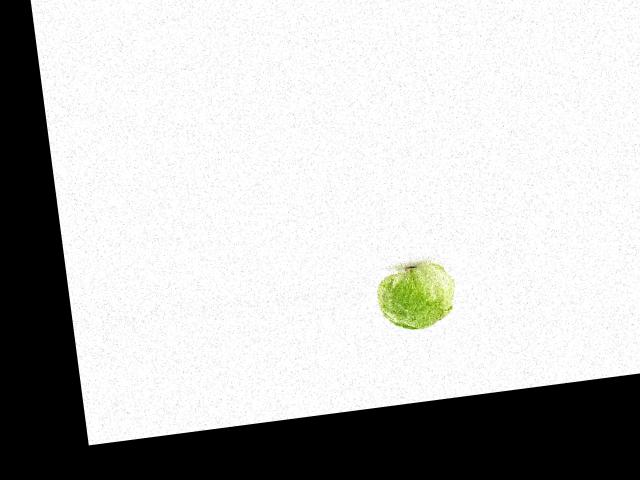lettuce: (365, 263, 460, 337)
